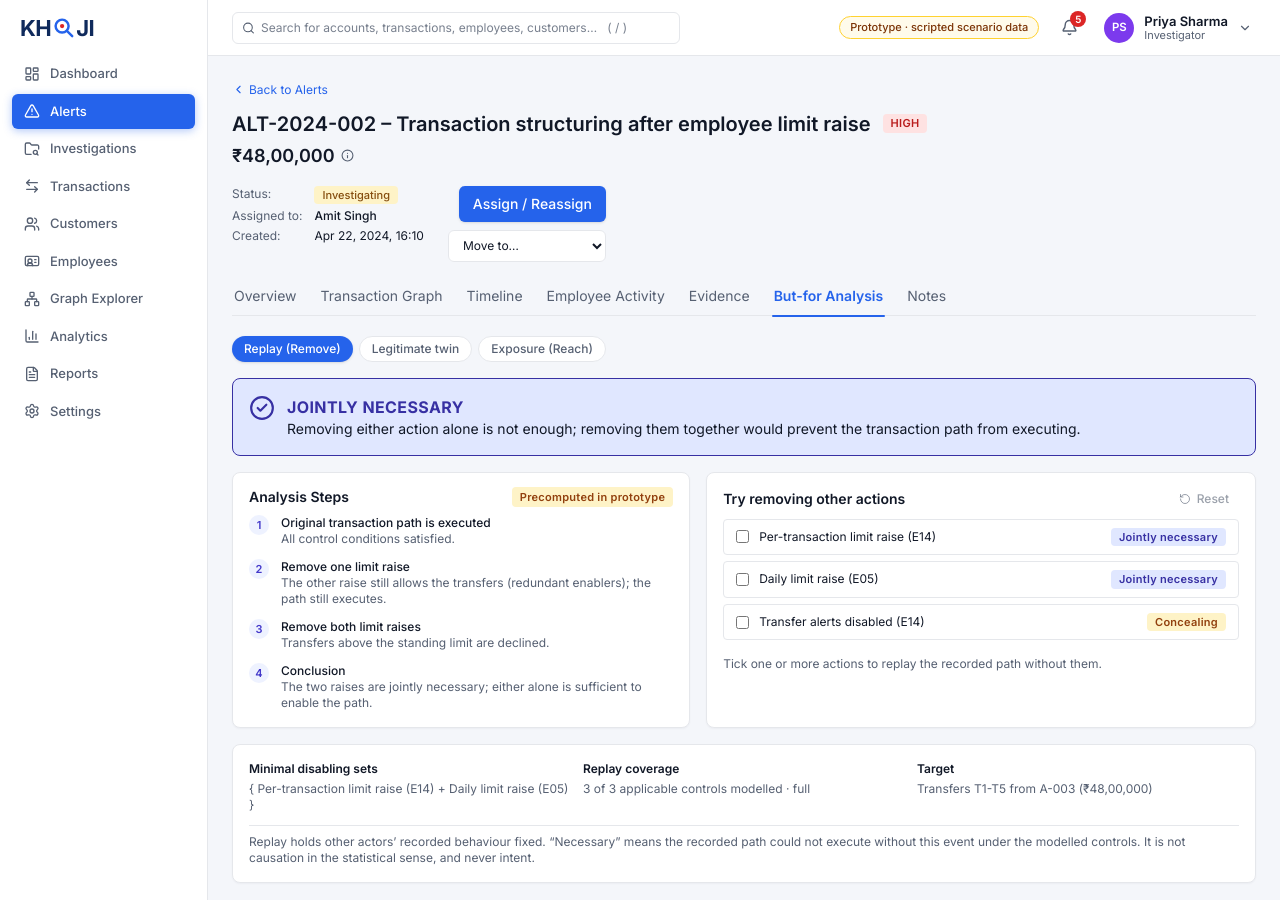
Test: Reach panel › is reachable from the But-for tab and empty for scenarios without exposure
Step 1. Click the tab "Exposure (Reach)" → [542, 348], box [478,336,606,362]
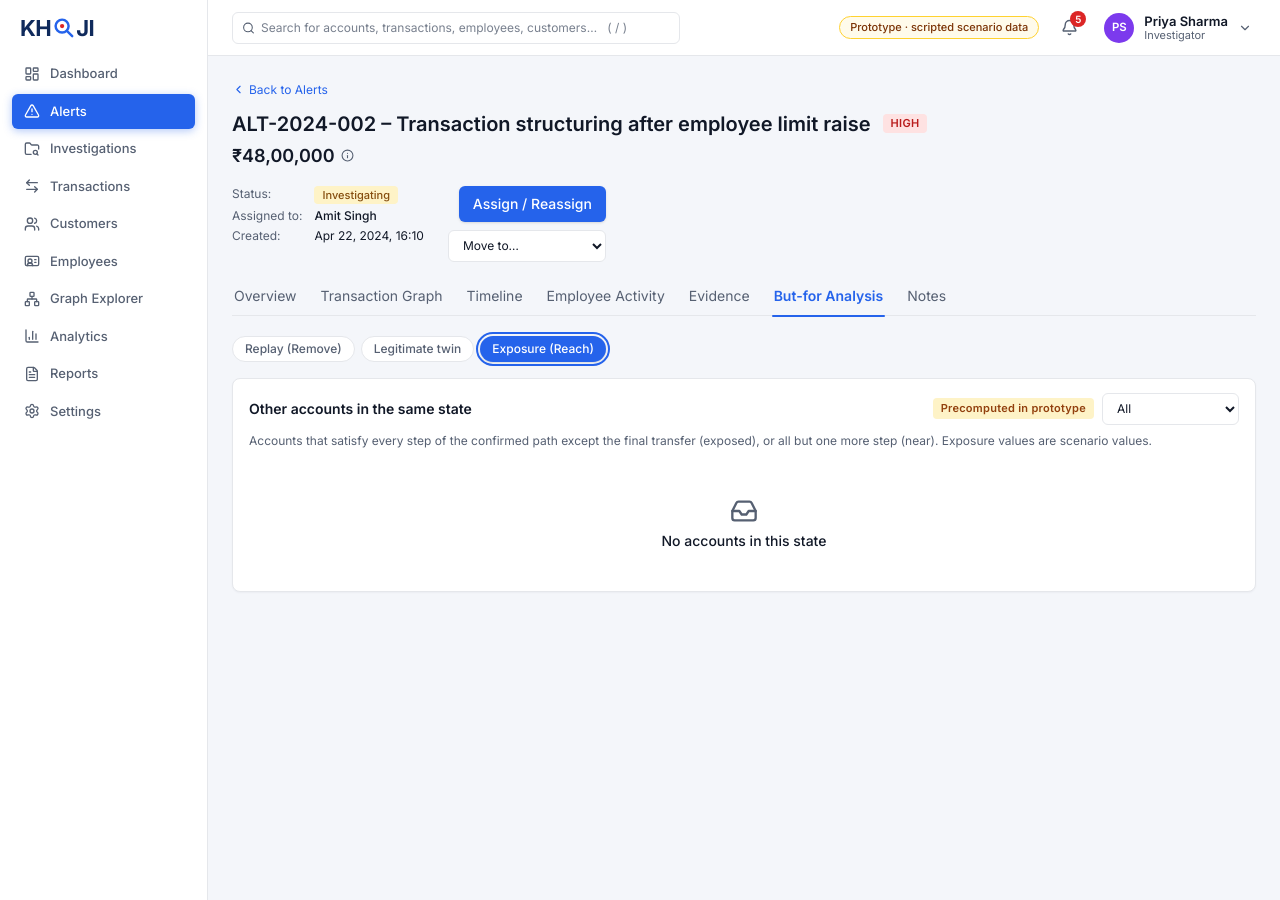
Expected: the text "No accounts in this state" is shown, [662,530,826,550]
